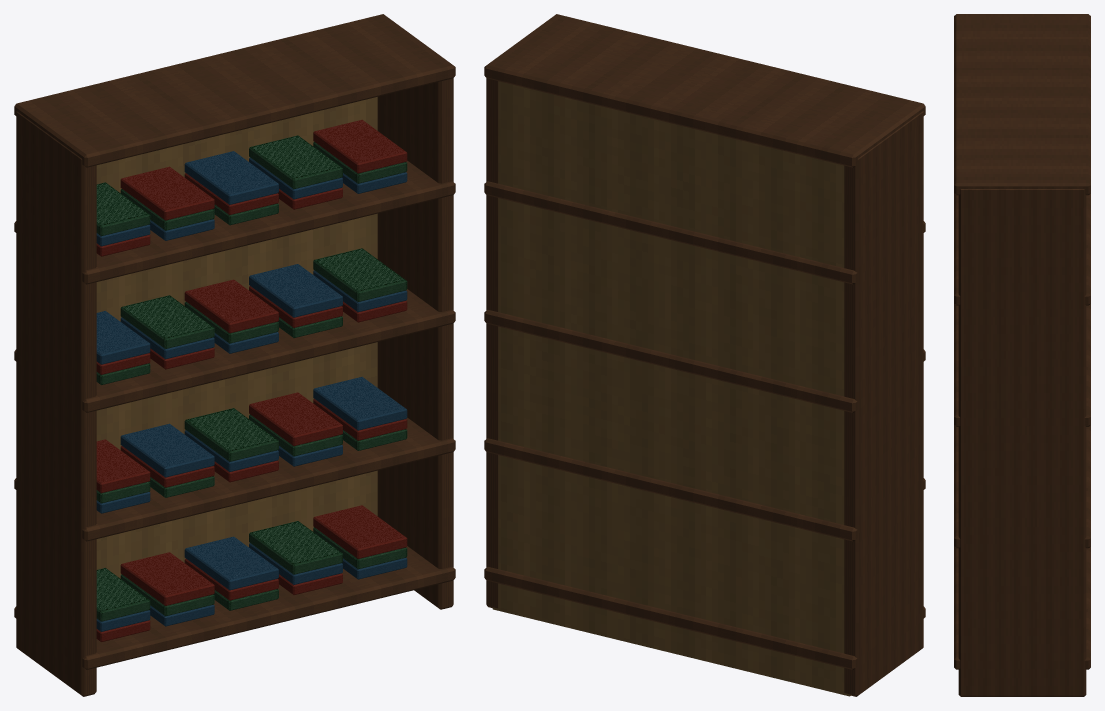
Rendered from level_lived_shelf.glb.
3 renders of one model, left to right at view 1: azimuth 30°, elevation 25°; view 2: azimuth 150°, elevation 25°; view 3: azimuth 270°, elevation 25°, orthographic. The views are drawn at different scales.
Parts seen in each view (by area): view 1: level_lived_shelf; view 2: level_lived_shelf; view 3: level_lived_shelf.
Boxes of the visible parts, box(x1,y1,x2,y2) form: level_lived_shelf: box(14, 14, 455, 696); level_lived_shelf: box(484, 14, 925, 696); level_lived_shelf: box(954, 14, 1090, 696).
Size of the model in its own units: 1.33 by 1.86 by 0.45.
6 materials, 6 textured.
